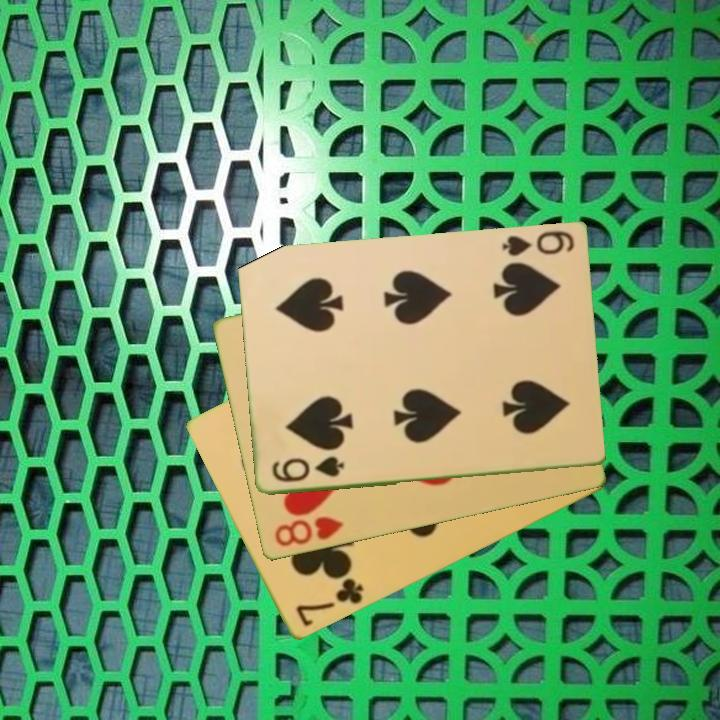6s: (268, 453, 347, 486), (498, 228, 577, 260)
7c: (292, 575, 367, 630)
8h: (271, 513, 346, 550)
